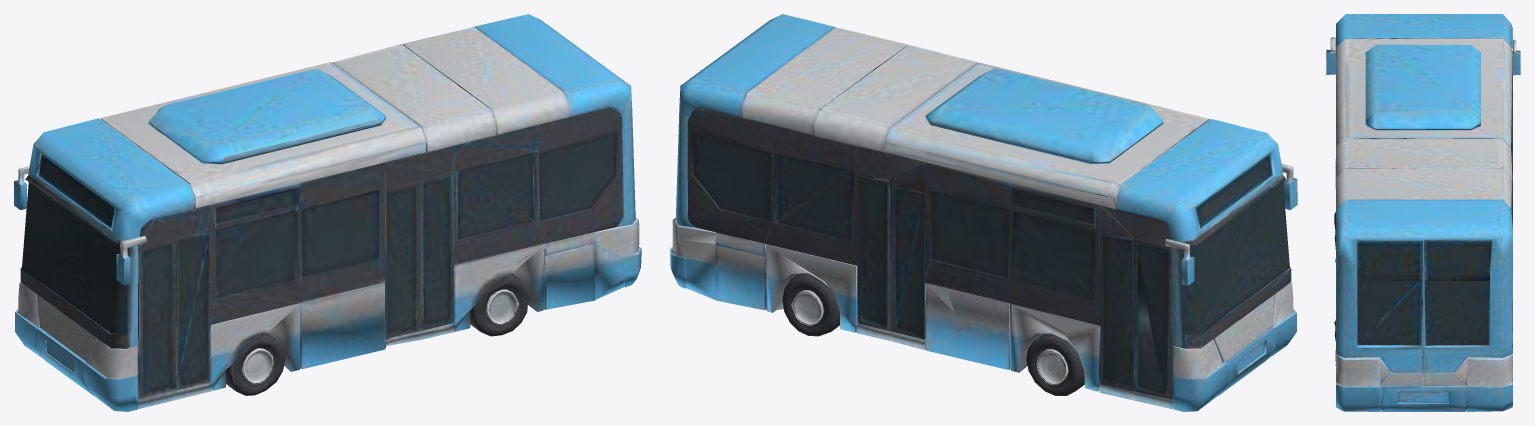
File: 46-city-bus.glb
3 renders of one model, left to right at view 1: azimuth 30°, elevation 25°; view 2: azimuth 150°, elevation 25°; view 3: azimuth 270°, elevation 25°, orthographic. The views are drawn at different scales.
Visible parts, largest first — view 1: geometry_0; view 2: geometry_0; view 3: geometry_0.
Part boxes in pixels (box(x1,y1,x2,y2)): geometry_0: box(14, 14, 641, 411); geometry_0: box(670, 14, 1297, 411); geometry_0: box(1326, 14, 1520, 411).
Bounding box in the file's own units: 0.9575 × 0.4082 × 0.3384.
1 material, 1 textured.
